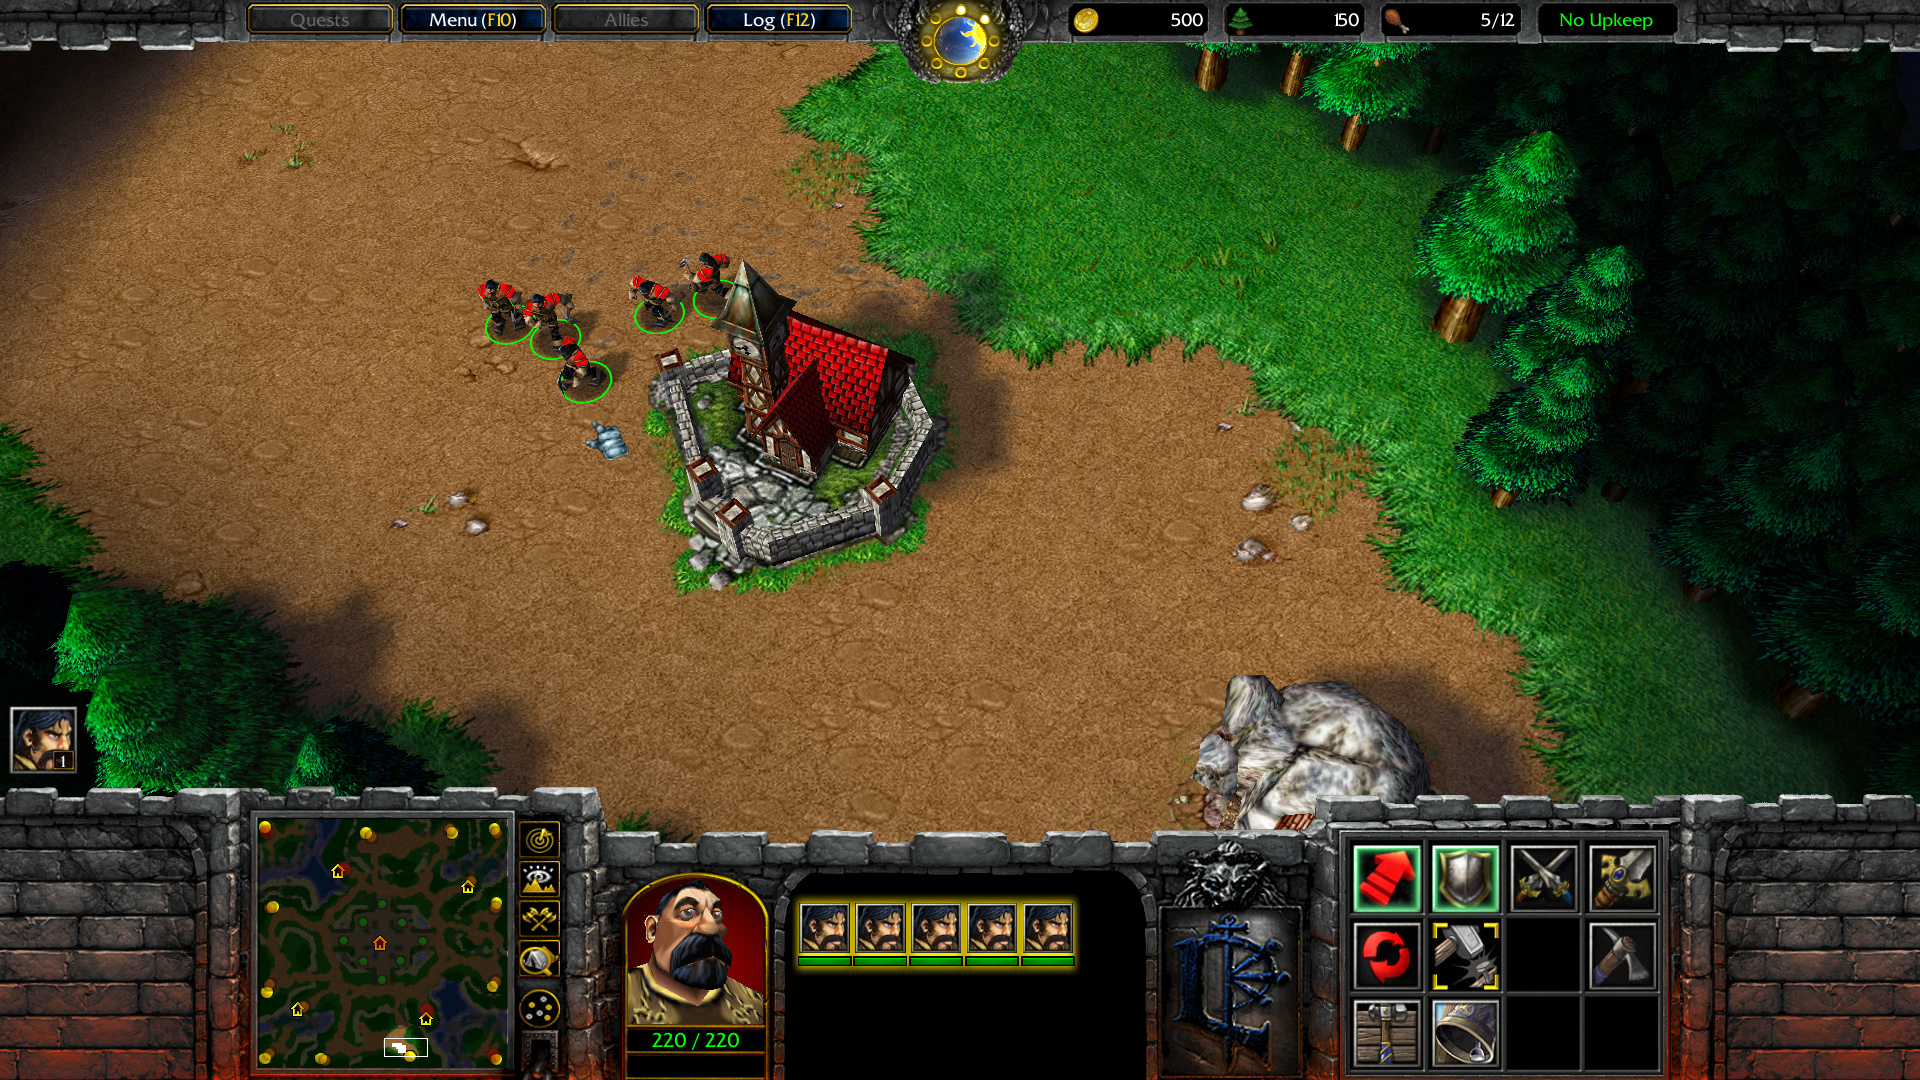Townhall: (644, 257, 957, 591)
